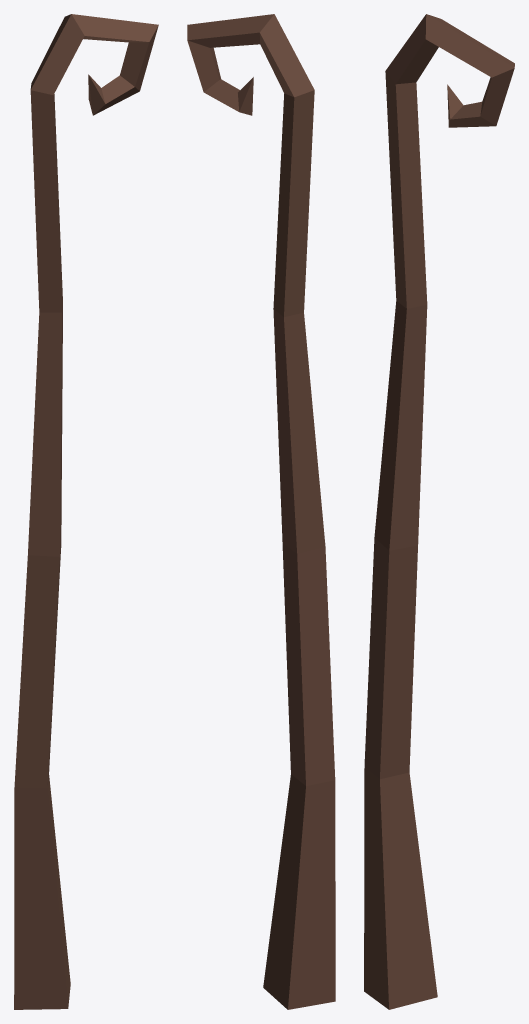
File: LPHorror_TimBurtonPoleA.fbx
3 views of the same model, side by side, from view 1: azimuth 30°, elevation 25°; view 2: azimuth 150°, elevation 25°; view 3: azimuth 330°, elevation 25° (orthographic).
Parts seen in each view (by area): view 1: TimBurtonPoleA; view 2: TimBurtonPoleA; view 3: TimBurtonPoleA.
Part boxes in pixels (bbox=[...]): TimBurtonPoleA: bbox=[14, 14, 158, 1009]; TimBurtonPoleA: bbox=[187, 14, 335, 1009]; TimBurtonPoleA: bbox=[364, 14, 514, 1009].
Bounding box in the file's own units: 53.44 × 341 × 23.61.
